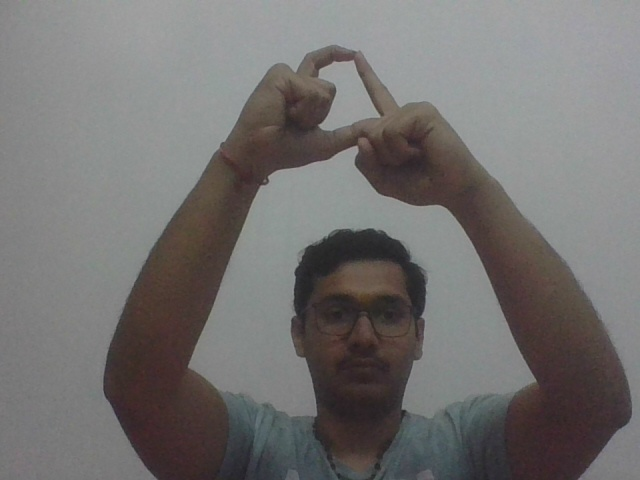D: (248, 40, 461, 208)
